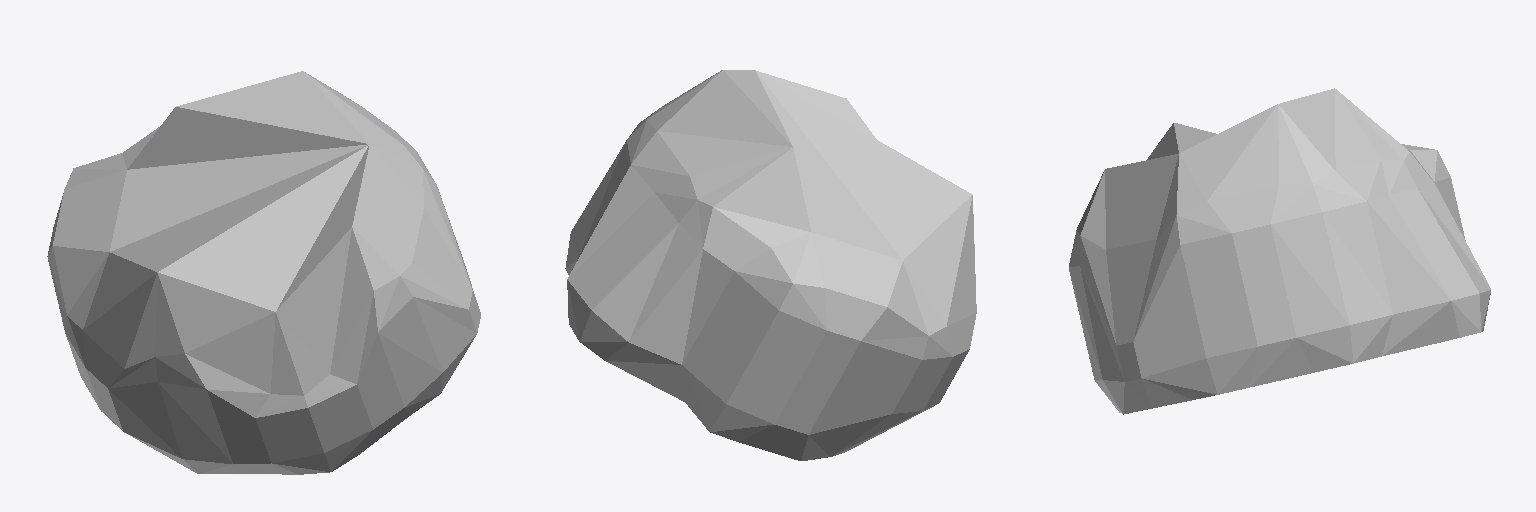
The model's file is SM_stone_01.obj.
The picture shows the model from 3 angles: view 1: azimuth 30°, elevation 25°; view 2: azimuth 150°, elevation 25°; view 3: azimuth 270°, elevation 25°; orthographic projection.
Parts seen in each view (by area): view 1: Cylinder.012; view 2: Cylinder.012; view 3: Cylinder.012.
Boxes of the visible parts, x1,y1,x2,y2 form: Cylinder.012: [47, 71, 480, 474]; Cylinder.012: [565, 70, 976, 460]; Cylinder.012: [1069, 88, 1490, 414].
Size of the model in its own units: 1.12 by 1.05 by 1.15.